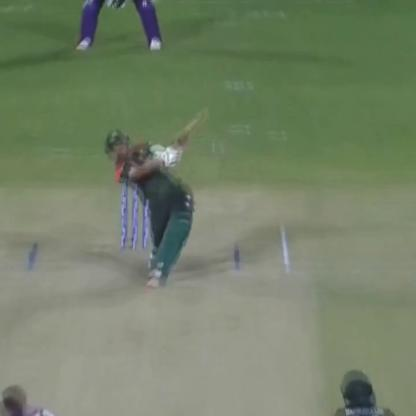pitch: (3, 224, 307, 416)
